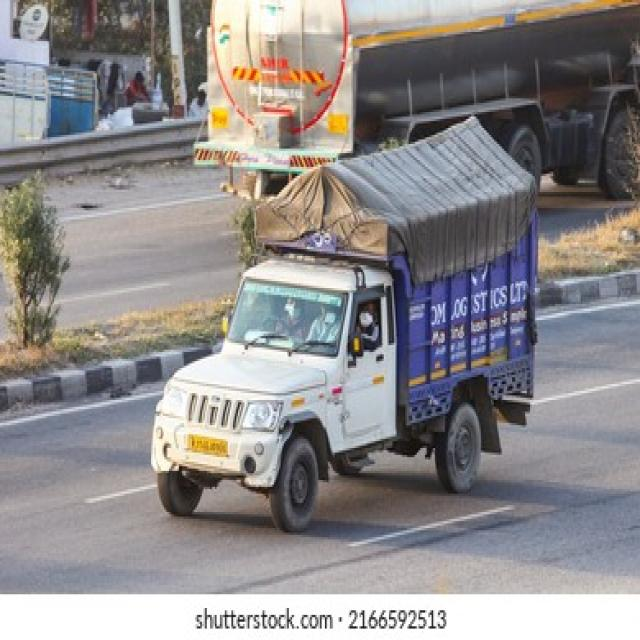truck ahead at: (150, 117, 535, 532)
